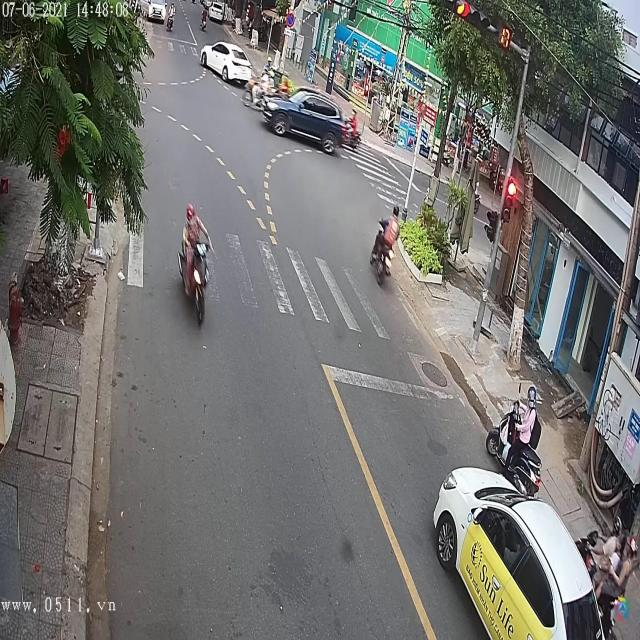car: (261, 94, 352, 154), (197, 42, 254, 88), (146, 1, 166, 24), (210, 4, 227, 23)
motorcycle: (485, 400, 544, 497), (175, 235, 215, 328), (370, 215, 395, 281)
